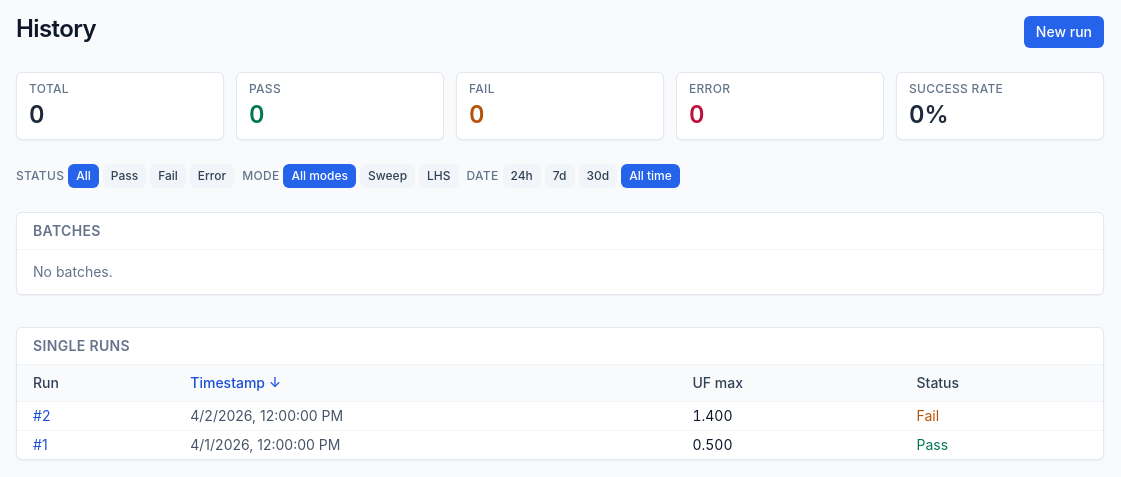
Test case: RunsDashboardPage › encodes status filter into the URL
This screenshot has width=1121, height=477.
Expected: the link "#1" is shown, [33,436,48,453]
Step 1. Click the button "Fail" → [168, 176], box [150,164,186,188]
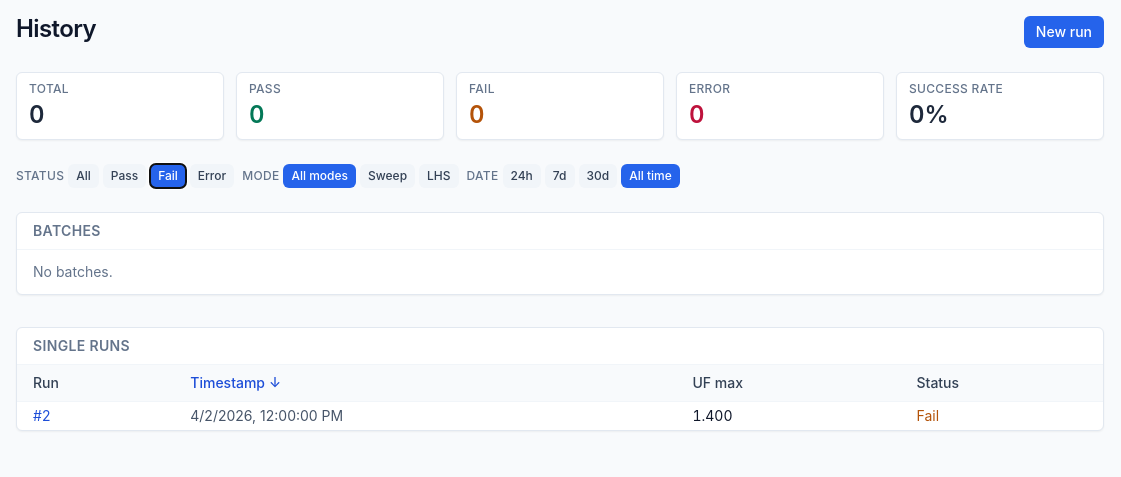
Expected: the link "#2" is shown, [33,407,50,424]
Expected: the link "#1" is gone
